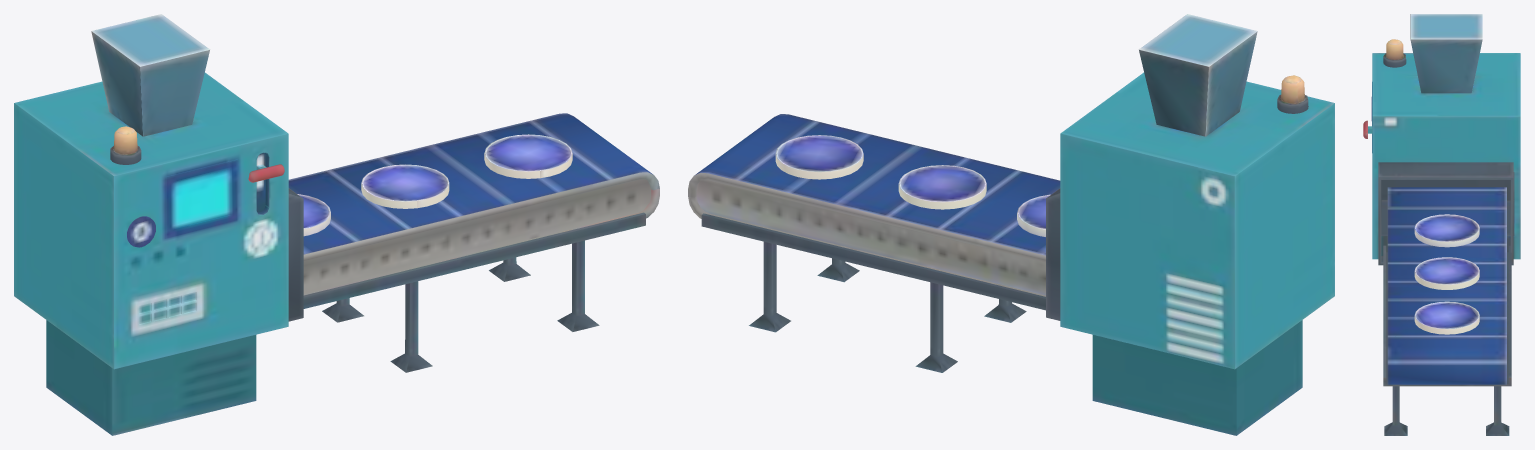
The model's file is PRP_Conveyor_lod.glb.
3 renders of one model, left to right at view 1: azimuth 30°, elevation 25°; view 2: azimuth 150°, elevation 25°; view 3: azimuth 270°, elevation 25°, orthographic. The views are drawn at different scales.
Parts seen in each view (by area): view 1: Cube, Cube.003, Cube.001, Cube.007, Cube.004, Cylinder002, Cylinder003, Cube.006, Cube.005, Cube.013, Cylinder.002, Cylinder001 (+1 smaller); view 2: Cube, Cube.003, Cube.001, Cube.007, Cube.004, Cylinder002, Cylinder003, Cube.006, Cube.015, Cube.014, Cylinder.002, Cylinder001; view 3: Cube.003, Cube, Cube.007, Cube.006, Cylinder001, Cylinder003, Cylinder002, Cube.004, Cube.013, Cube.015, Cylinder.002.
Boxes of the visible parts, x1,y1,x2,y2 form: Cube: (14,72,288,369); Cube.003: (288,113,659,295); Cube.001: (46,320,256,435); Cube.007: (91,14,209,136); Cube.004: (303,212,645,308); Cylinder002: (361,164,449,208); Cylinder003: (484,134,572,178); Cube.006: (288,188,303,321); Cube.005: (390,281,432,372); Cube.013: (557,240,599,331); Cylinder.002: (110,126,141,164); Cylinder001: (297,194,330,236); Cube: (1060,72,1334,369); Cube.003: (688,114,1060,296); Cube.001: (1092,320,1302,435); Cube.007: (1139,14,1257,136); Cube.004: (701,213,1045,310); Cylinder002: (898,165,986,209); Cylinder003: (775,135,863,179); Cube.006: (1046,188,1060,320); Cube.015: (749,241,790,332); Cube.014: (915,282,957,372); Cylinder.002: (1277,75,1308,113); Cylinder001: (1017,194,1050,236); Cube.003: (1387,187,1506,384); Cube: (1372,53,1520,259); Cube.007: (1410,14,1482,93); Cube.006: (1378,162,1513,265); Cylinder001: (1414,214,1479,247); Cylinder003: (1414,301,1479,334); Cylinder002: (1414,257,1479,289); Cube.004: (1383,245,1511,386); Cube.013: (1384,386,1407,435); Cube.015: (1486,386,1509,435); Cylinder.002: (1383,39,1406,67).
Bounding box in the file's own units: 3.79 × 2.31 × 1.25.
2 materials, 2 textured.
